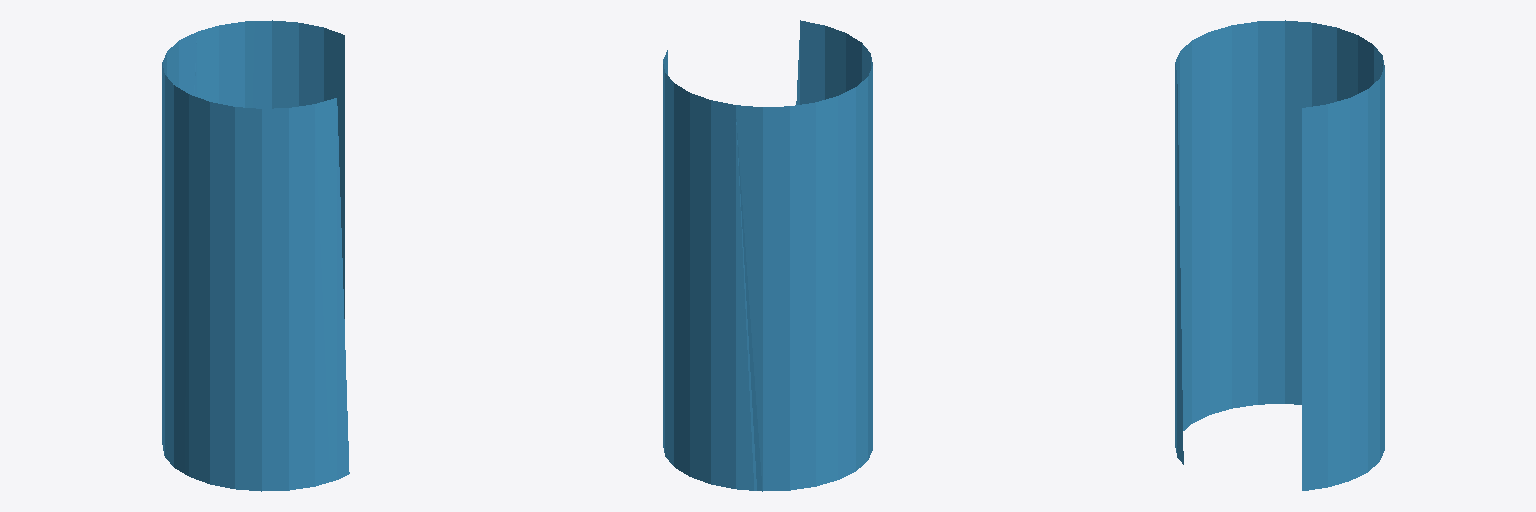
The robot description file, URDF, robot "partnet_a1c91a0d66c865b0c0ea4586d3cf4a4":
<?xml version="1.0" ?>
<robot name="partnet_a1c91a0d66c865b0c0ea4586d3cf4a4">
	<link name="base"/>
	<link name="link_0">
		<visual name="pressing_lid-1">
			<origin xyz="0.010711499999999999 0 -0.015151500000000002"/>
			<geometry>
				<mesh filename="textured_objs/original-2.obj"/>
			</geometry>
		</visual>
		<visual name="pressing_lid-1">
			<origin xyz="0.010711499999999999 0 -0.015151500000000002"/>
			<geometry>
				<mesh filename="textured_objs/original-3.obj"/>
			</geometry>
		</visual>
		<collision>
			<origin xyz="0.010711499999999999 0 -0.015151500000000002"/>
			<geometry>
				<mesh filename="textured_objs/original-2.obj"/>
			</geometry>
		</collision>
		<collision>
			<origin xyz="0.010711499999999999 0 -0.015151500000000002"/>
			<geometry>
				<mesh filename="textured_objs/original-3.obj"/>
			</geometry>
		</collision>
	</link>
	<joint name="joint_0" type="continuous">
		<origin xyz="0.0 0 0.0"/>
		<axis xyz="0 1 0"/>
		<child link="link_0"/>
		<parent link="link_0_helper"/>
	</joint>
	<link name="link_1">
		<visual name="base_body-2">
			<origin xyz="0 0 0"/>
			<geometry>
				<mesh filename="textured_objs/original-1.obj"/>
			</geometry>
		</visual>
		<collision>
			<origin xyz="0 0 0"/>
			<geometry>
				<mesh filename="textured_objs/original-1.obj"/>
			</geometry>
		</collision>
	</link>
	<joint name="joint_1" type="fixed">
		<origin rpy="1.570796326794897 0 -1.570796326794897" xyz="0 0 0"/>
		<child link="link_1"/>
		<parent link="base"/>
	</joint>
	<link name="link_0_helper"/>
	<joint name="joint_2" type="prismatic">
		<origin xyz="-0.010711499999999999 0 0.015151500000000002"/>
		<axis xyz="0 -1 0"/>
		<child link="link_0_helper"/>
		<parent link="link_1"/>
		<limit lower="0" upper="0.0040000000000000036"/>
	</joint>
</robot>

--- What the picture shows (computed from the rendered views, not written in the file) ---
Views: 3 orthographic renders of the robot side by side, from view 1: azimuth 30°, elevation 25°; view 2: azimuth 150°, elevation 25°; view 3: azimuth 270°, elevation 25°.
Robot: partnet_a1c91a0d66c865b0c0ea4586d3cf4a4 — 4 links, 3 joints (1 continuous, 1 prismatic, 1 fixed); root link base; default pose: every joint at zero.
Links seen in each view (by area): view 1: link_0; view 2: link_0; view 3: link_0.
Boxes of the visible links, left/top/right/bottom form: link_0: left=162, top=20, right=349, bottom=491; link_0: left=663, top=20, right=872, bottom=491; link_0: left=1175, top=20, right=1384, bottom=490.
Size in the robot's own frame: 0.0822 by 0.083 by 0.1675 metres.
Meshes: 3 distinct files referenced, 1 mesh visuals loaded (1 OBJ); not drawn: 2 (reference not matched to a file when rendering).